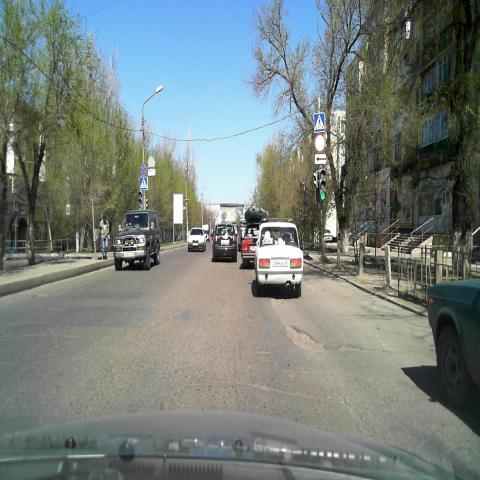3_2: (314, 134, 325, 152)
3_27: (140, 164, 148, 176)
5_19_1: (313, 113, 325, 132), (140, 176, 148, 190)
8_3_2: (314, 153, 326, 163)
